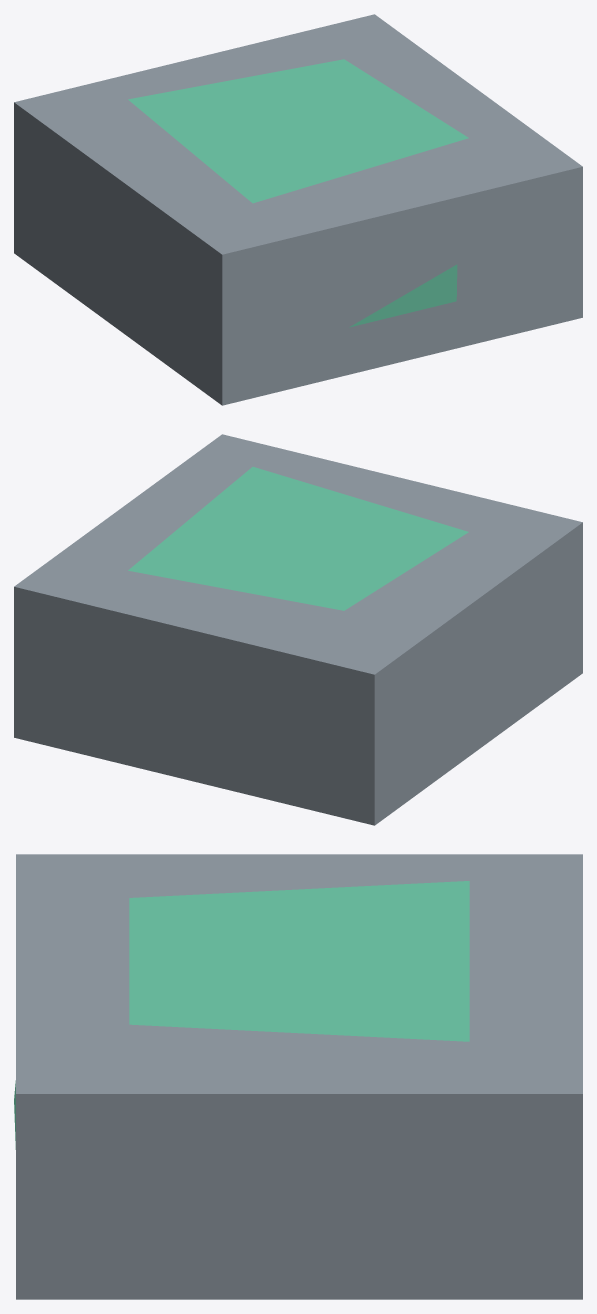
The model's file is CO_NavalYard_LOD1.glb.
3 renders of one model, top to bottom at view 1: azimuth 30°, elevation 25°; view 2: azimuth 150°, elevation 25°; view 3: azimuth 270°, elevation 25°, orthographic. The views are drawn at different scales.
Visible parts, largest first — view 1: EntranceGate; view 2: EntranceGate; view 3: EntranceGate.
Part boxes in pixels (box(x1,y1,x2,y2)): EntranceGate: box(14, 14, 582, 405); EntranceGate: box(14, 434, 582, 825); EntranceGate: box(14, 854, 582, 1299).
Size of the model in its own units: 1000 by 442 by 1003.
